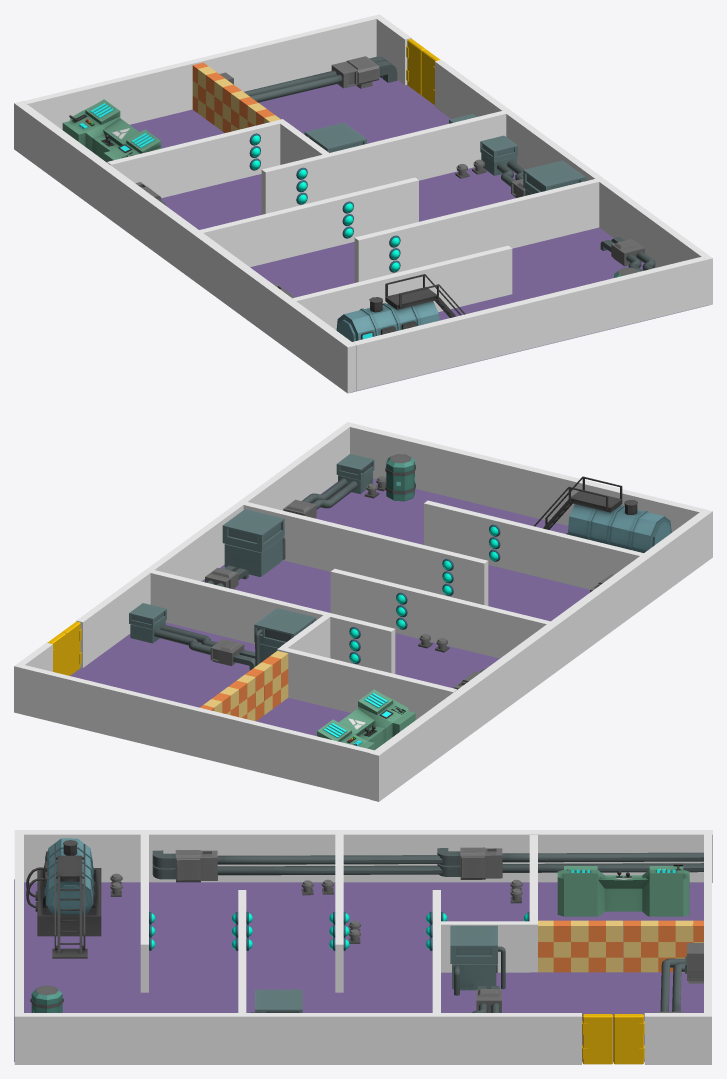
Rendered from maps_42.fbx.
3 renders of one model, top to bottom at view 1: azimuth 30°, elevation 25°; view 2: azimuth 150°, elevation 25°; view 3: azimuth 270°, elevation 25°, orthographic. The views are drawn at different scales.
Visible parts, largest first — view 1: wall_01_08_geo, wall_01_07_geo, wall_01_05_geo, wall_01_09_geo, wall_01_09_geo8, wall_01_09_geo9, wall_01_09_geo4, wall_01_06_geo, wall_01_09_geo6, wall_01_09_geo3, tankwater_geo, table_01_geo (+9 smaller); view 2: wall_01_08_geo, wall_01_07_geo, wall_01_09_geo, wall_01_05_geo, wall_01_06_geo, wall_01_09_geo8, wall_01_09_geo3, wall_01_09_geo4, wall_01_09_geo9, wall_01_09_geo6, tankwater_geo, generatorStation_05_geo3 (+9 smaller); view 3: wall_01_08_geo, wall_01_06_geo, wall_01_07_geo, tankwater_geo, generatorStation_03_geo3, table_01_geo, generatorStation_03_geo2, wall_01_06_geo1, generatorStation_05_geo, wall_01_11_geo6, generatorStation_03_geo1, wall_01_05_geo (+19 smaller).
Part boxes in pixels (box(x1,y1,x2,y2)): wall_01_08_geo: box(130, 77, 707, 392); wall_01_07_geo: box(14, 101, 356, 393); wall_01_05_geo: box(352, 257, 705, 391); wall_01_09_geo: box(23, 16, 376, 129); wall_01_09_geo8: box(354, 179, 599, 282); wall_01_09_geo9: box(261, 111, 506, 214); wall_01_09_geo4: box(199, 177, 418, 267); wall_01_06_geo: box(435, 60, 712, 306); wall_01_09_geo6: box(107, 119, 286, 198); wall_01_09_geo3: box(293, 245, 512, 330); tankwater_geo: box(336, 274, 465, 341); table_01_geo: box(62, 99, 161, 162); wall_01_08_geo: box(70, 478, 589, 736); wall_01_07_geo: box(370, 509, 712, 801); wall_01_09_geo: box(20, 665, 373, 799); wall_01_05_geo: box(350, 423, 703, 532); wall_01_06_geo: box(76, 422, 353, 667); wall_01_09_geo8: box(243, 502, 488, 605); wall_01_09_geo3: box(424, 500, 643, 589); wall_01_09_geo4: box(330, 568, 550, 658); wall_01_09_geo9: box(150, 570, 395, 673); wall_01_09_geo6: box(277, 646, 456, 719); tankwater_geo: box(533, 476, 671, 552); generatorStation_05_geo3: box(222, 509, 285, 576); wall_01_08_geo: box(14, 879, 703, 1061); wall_01_06_geo: box(14, 1013, 581, 1064); wall_01_07_geo: box(14, 830, 712, 882); tankwater_geo: box(26, 838, 101, 958); generatorStation_03_geo3: box(152, 850, 442, 882); table_01_geo: box(557, 863, 689, 916); generatorStation_03_geo2: box(437, 847, 703, 879); wall_01_06_geo1: box(644, 1013, 711, 1064); generatorStation_05_geo: box(450, 925, 505, 995); wall_01_11_geo6: box(441, 921, 529, 972); generatorStation_03_geo1: box(657, 943, 703, 1012); wall_01_05_geo: box(14, 834, 23, 1012).
Bounding box in the file's own units: 73.43 × 13.25 × 116.
Materials: 8 (8 with a texture image).
